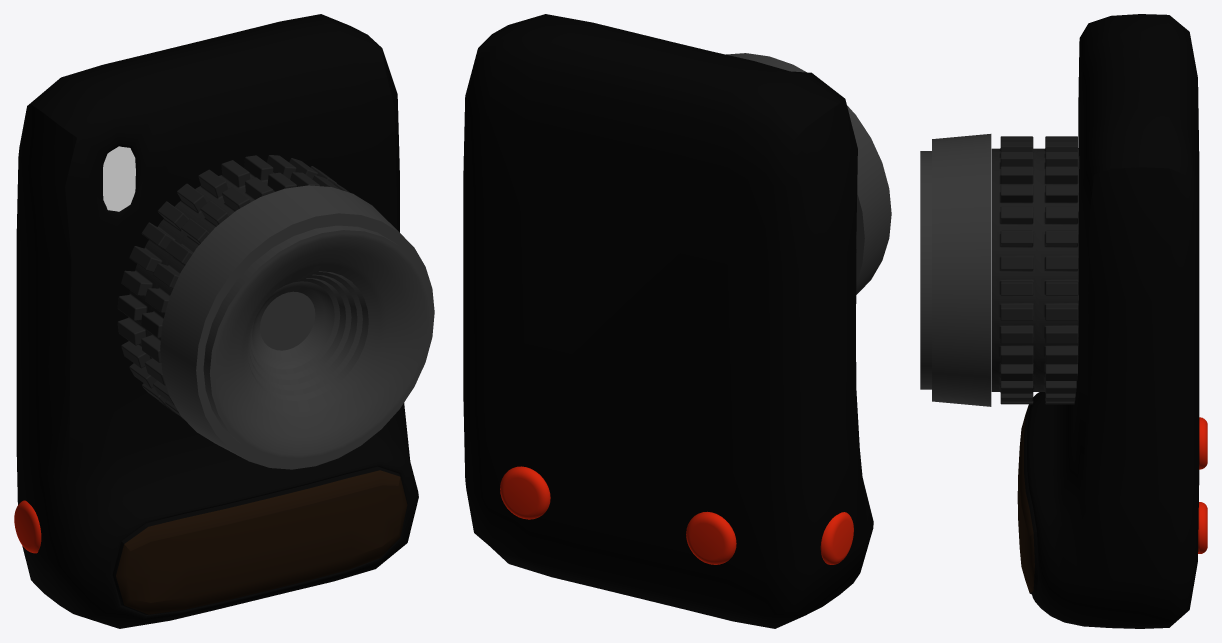
The model's file is SimpleCamera.obj.
3 views of the same model, side by side, from view 1: azimuth 30°, elevation 25°; view 2: azimuth 150°, elevation 25°; view 3: azimuth 270°, elevation 25° (orthographic). The views are drawn at different scales.
Visible parts, largest first — view 1: Kids_Instant_Print_Camera_CT-P14; view 2: Kids_Instant_Print_Camera_CT-P14; view 3: Kids_Instant_Print_Camera_CT-P14.
Part boxes in pixels (box(x1,y1,x2,y2)): Kids_Instant_Print_Camera_CT-P14: box(14, 14, 434, 628); Kids_Instant_Print_Camera_CT-P14: box(463, 14, 891, 628); Kids_Instant_Print_Camera_CT-P14: box(920, 14, 1207, 628).
Bounding box in the file's own units: 0.0709 × 0.0992 × 0.0514.
